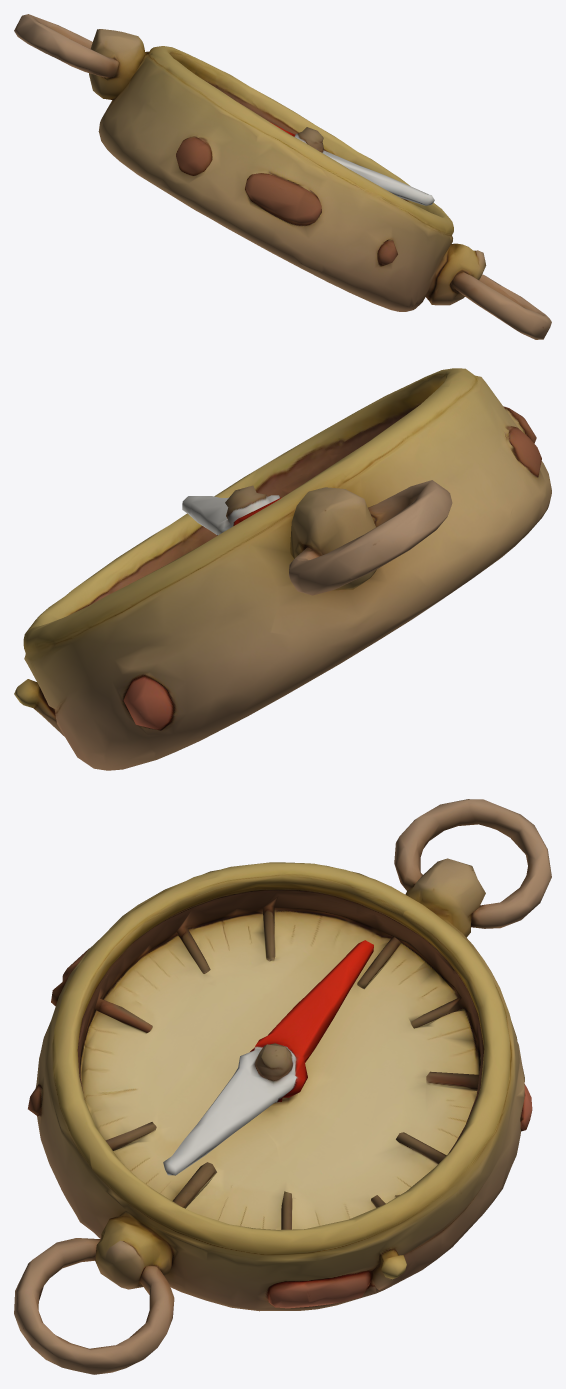
File: compass.glb
3 renders of one model, top to bottom at view 1: azimuth 30°, elevation 25°; view 2: azimuth 150°, elevation 25°; view 3: azimuth 270°, elevation 25°, orthographic. The views are drawn at different scales.
Parts seen in each view (by area): view 1: tripo_node_0369d858-2375-4ec3-8924-848f13731dfd; view 2: tripo_node_0369d858-2375-4ec3-8924-848f13731dfd; view 3: tripo_node_0369d858-2375-4ec3-8924-848f13731dfd.
Part boxes in pixels (box(x1,y1,x2,y2)): tripo_node_0369d858-2375-4ec3-8924-848f13731dfd: box(14, 14, 551, 339); tripo_node_0369d858-2375-4ec3-8924-848f13731dfd: box(14, 368, 551, 770); tripo_node_0369d858-2375-4ec3-8924-848f13731dfd: box(14, 799, 551, 1374).
Bounding box in the file's own units: 0.9993 × 0.7369 × 1.
1 material, 1 textured.
